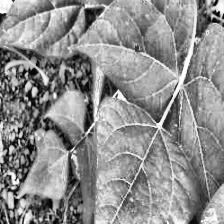ALS: (74, 0, 197, 113)
